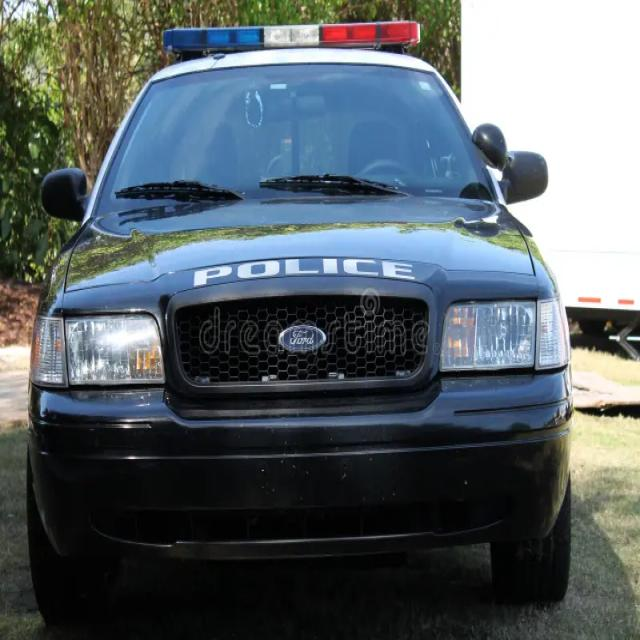Police: (11, 11, 619, 640)
